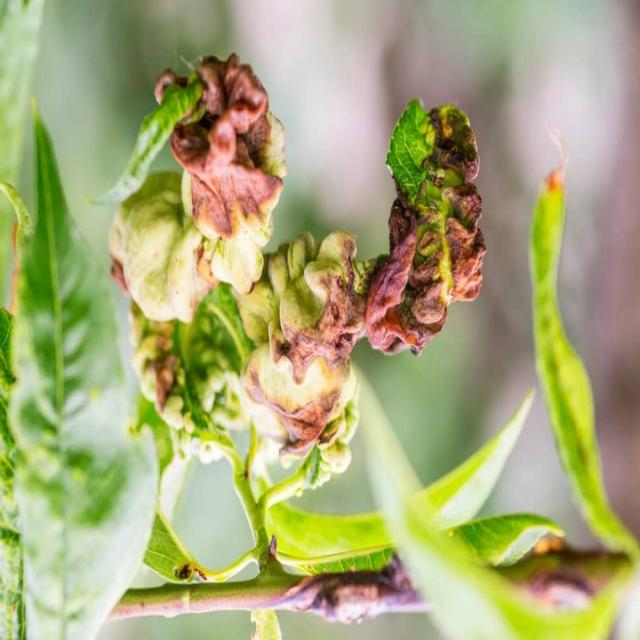peach_leaf_curl: (155, 50, 289, 295)
